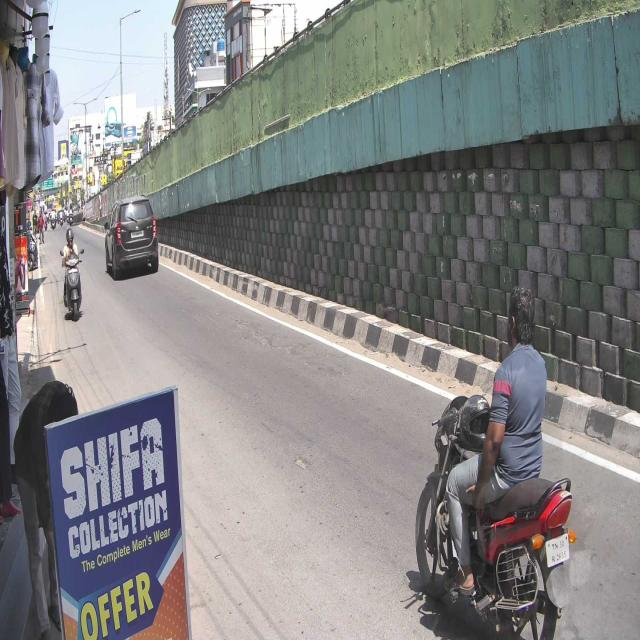single_rider: (414, 286, 574, 640)
